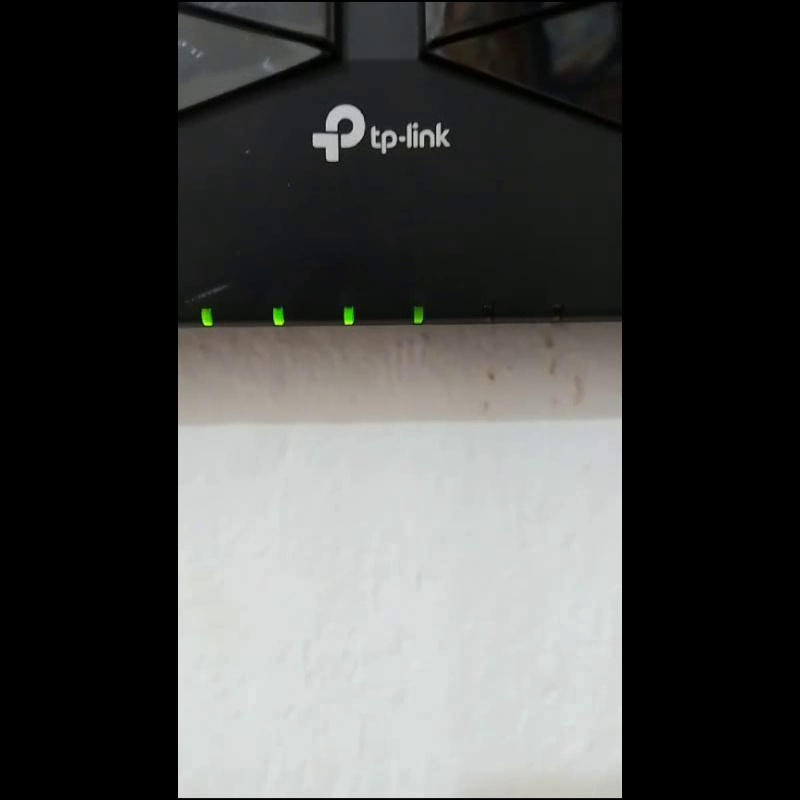off: (549, 303, 562, 320), (483, 303, 492, 322)
on_green: (200, 307, 212, 324), (273, 306, 283, 325), (343, 306, 353, 324), (413, 305, 423, 322)
